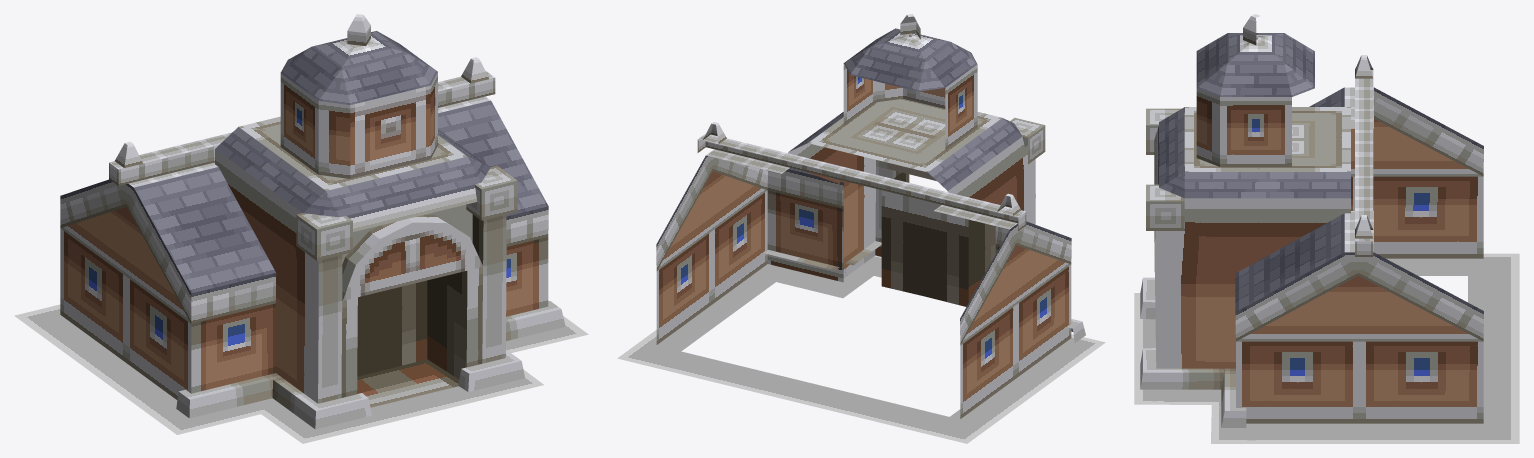
Rendered from Driftveil City Building.obj.
3 renders of one model, left to right at view 1: azimuth 30°, elevation 25°; view 2: azimuth 150°, elevation 25°; view 3: azimuth 270°, elevation 25°, orthographic. The views are drawn at different scales.
Visible parts, largest first — view 1: polygon3, polygon2, polygon0, polygon1; view 2: polygon3, polygon2, polygon1, polygon0; view 3: polygon3, polygon2, polygon1.
Boxes of the visible parts, bbox=[...] form: polygon3: bbox=[60, 72, 565, 429]; polygon2: bbox=[60, 14, 548, 323]; polygon0: bbox=[342, 85, 482, 300]; polygon1: bbox=[14, 304, 588, 443]; polygon3: bbox=[656, 64, 1085, 418]; polygon2: bbox=[656, 14, 1071, 344]; polygon1: bbox=[617, 255, 1105, 443]; polygon0: bbox=[903, 88, 945, 108]; polygon3: bbox=[1140, 88, 1483, 427]; polygon2: bbox=[1154, 14, 1483, 341]; polygon1: bbox=[1134, 253, 1519, 443].
Size of the model in its own units: 105 by 85.87 by 90.15.
